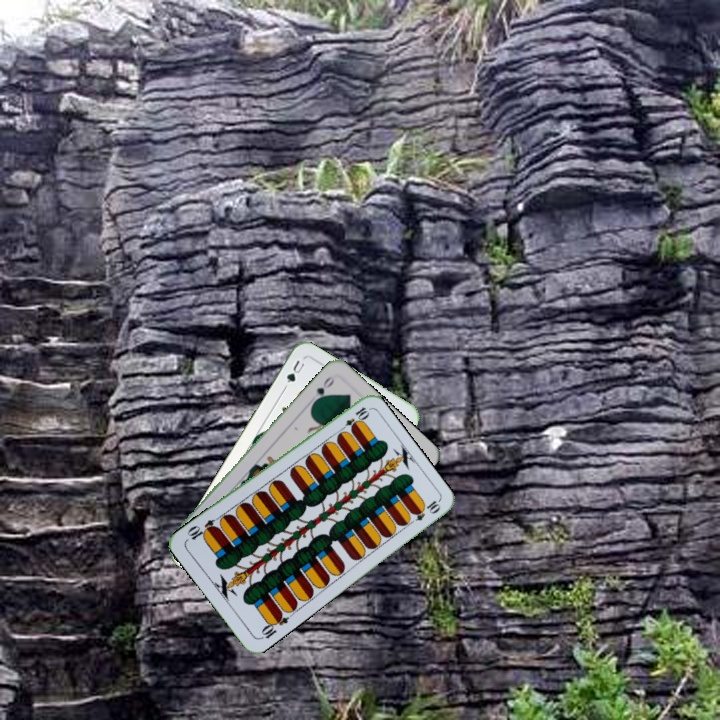E10: (256, 608, 291, 642), (335, 403, 371, 435)
GO: (309, 372, 338, 407)
GU: (282, 356, 307, 387)
